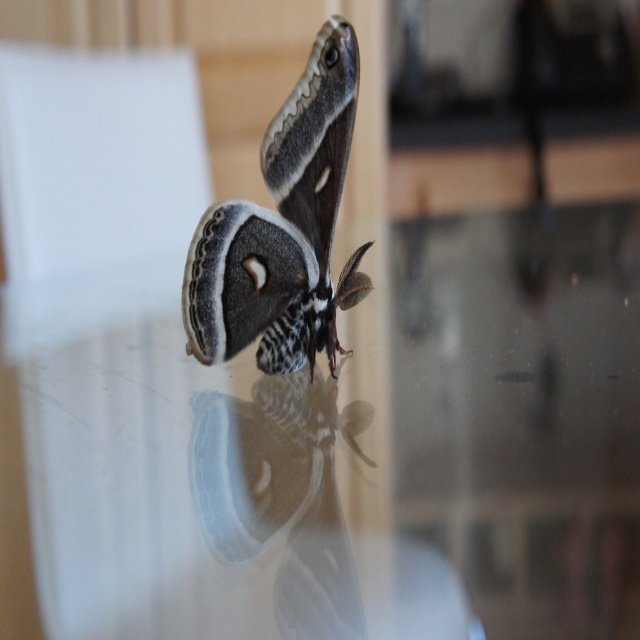Butterfly: (173, 31, 378, 416)
